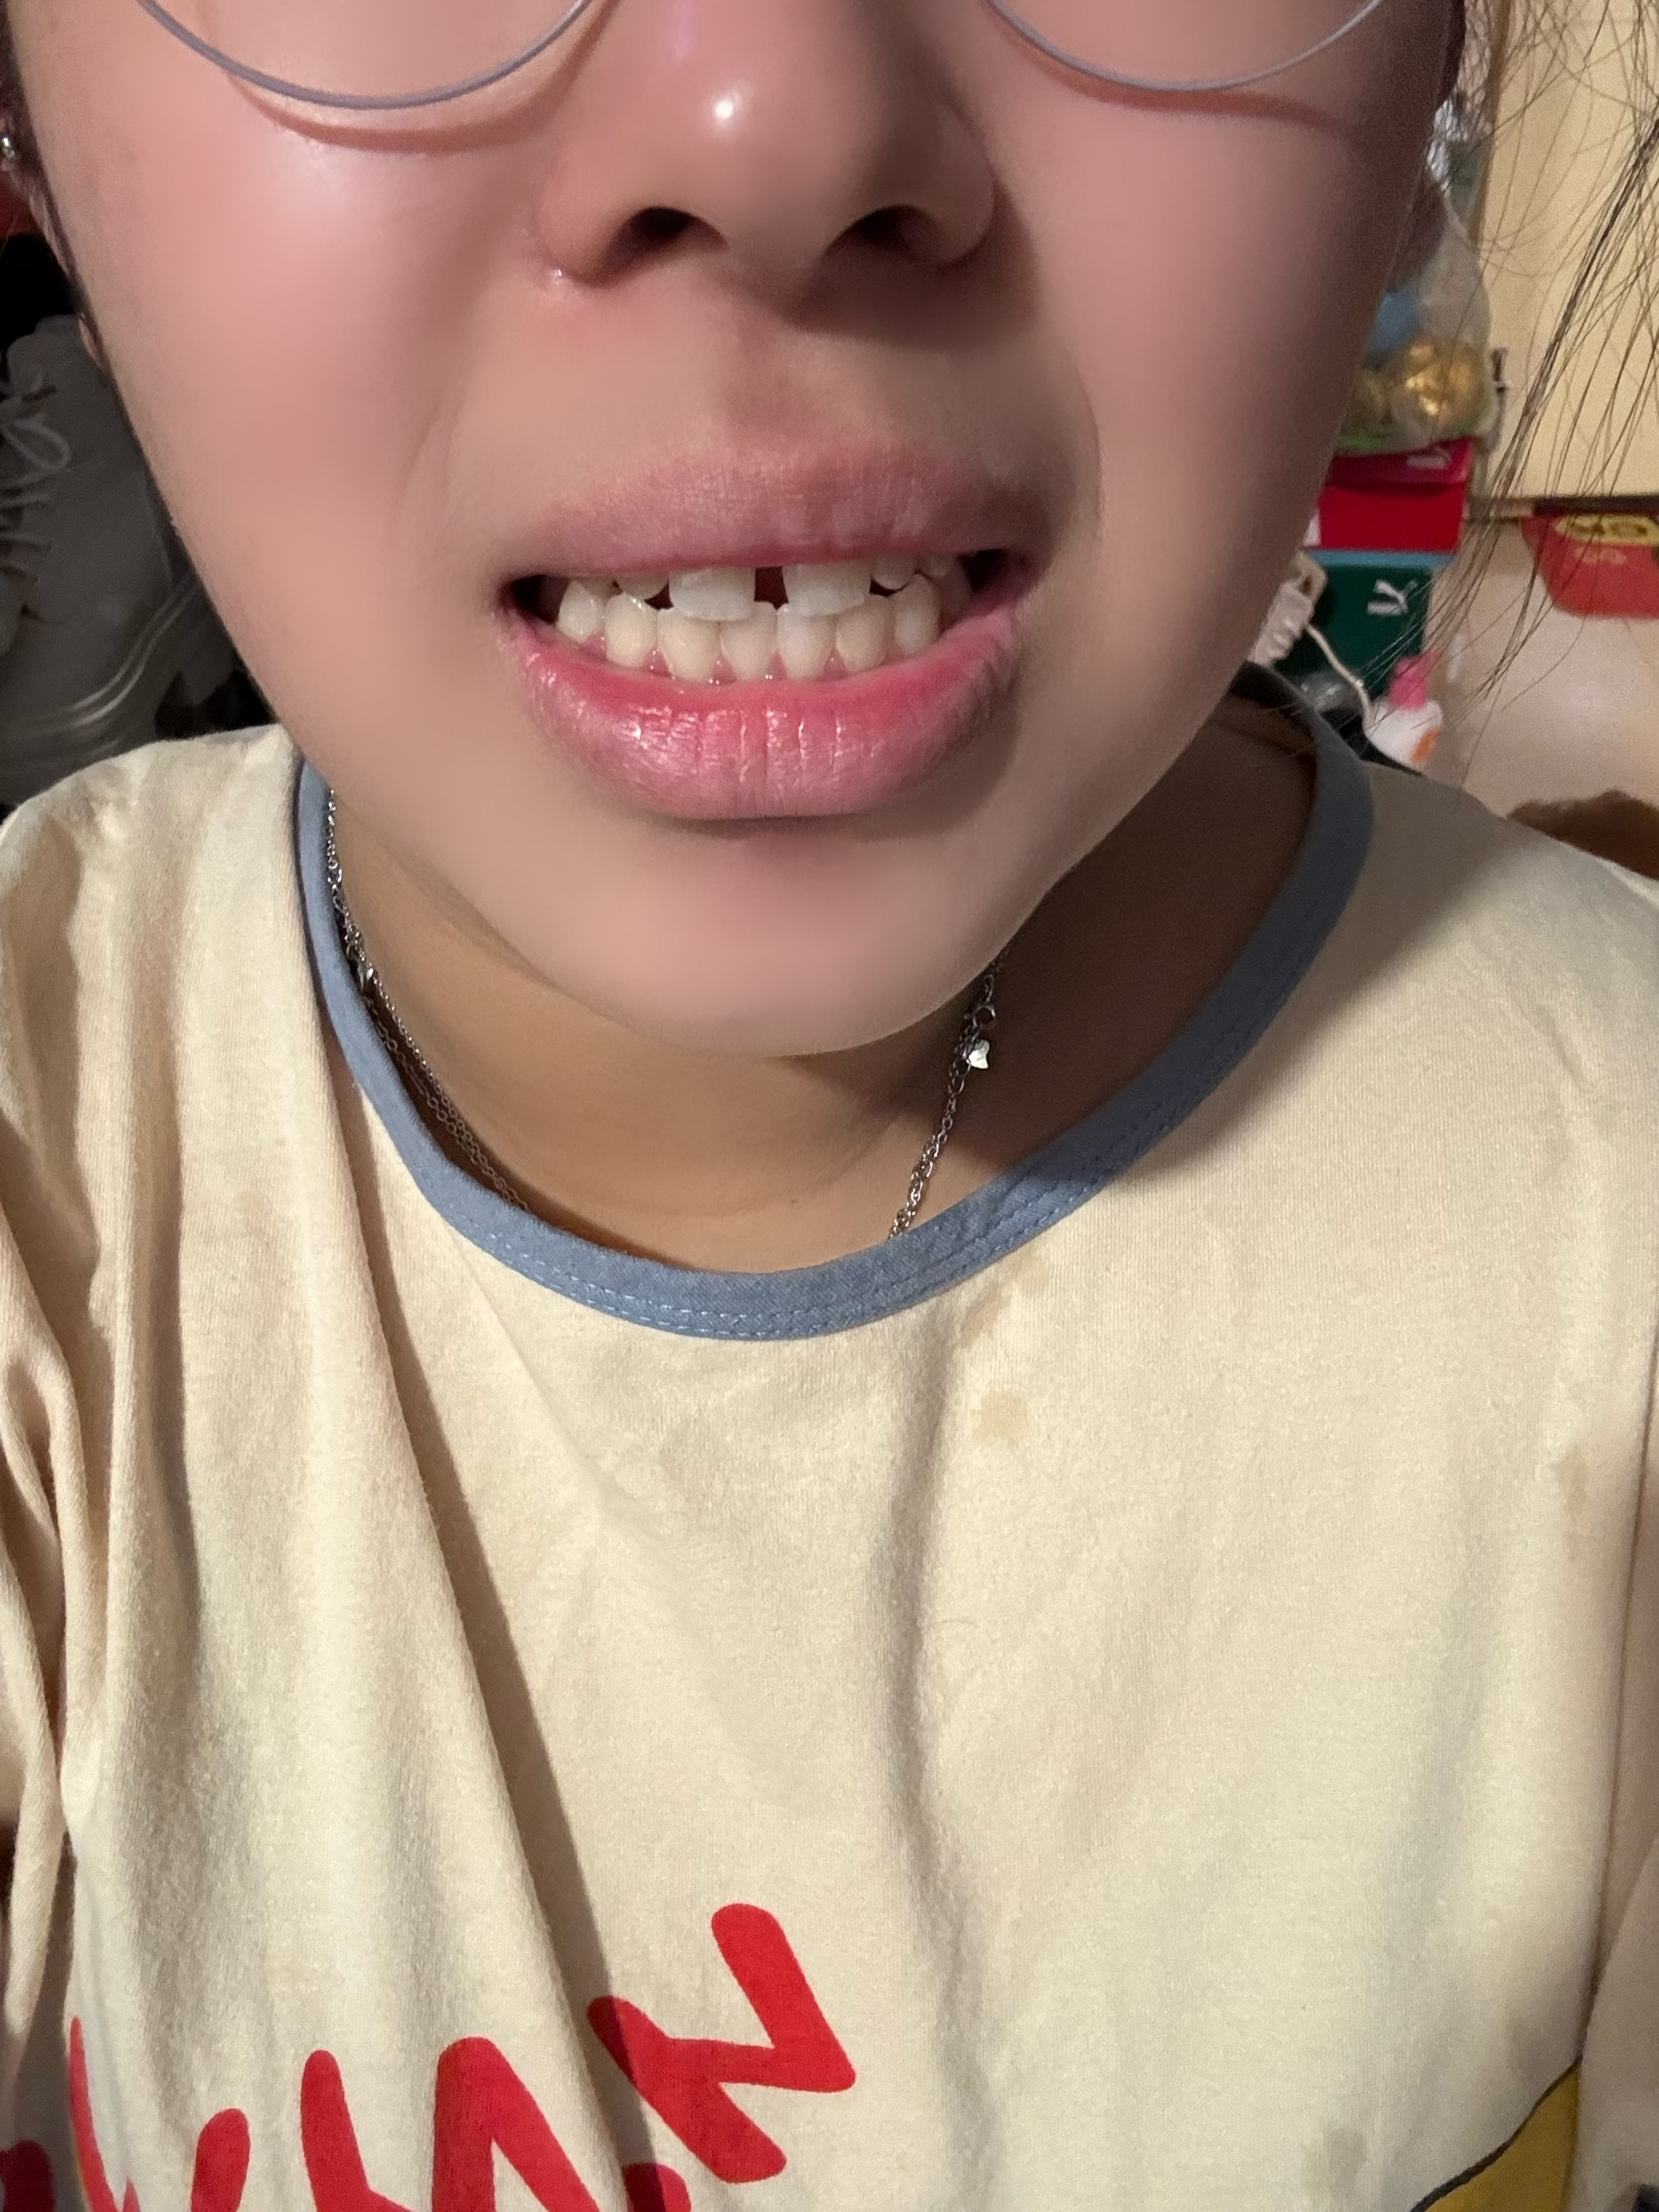teeth: (674, 564, 753, 620), (788, 556, 871, 604), (666, 613, 721, 678), (727, 604, 775, 678), (779, 611, 831, 672), (608, 590, 648, 664)
